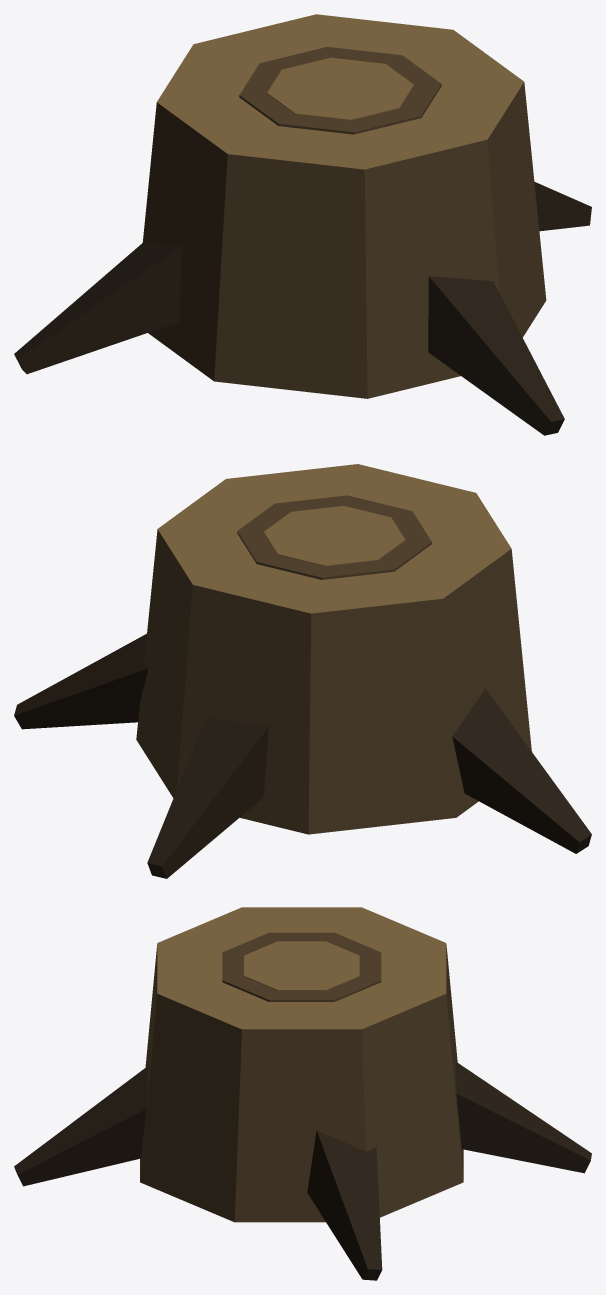
File: hushwood_stump.glb
The picture shows the model from 3 angles, top to bottom: view 1: azimuth 30°, elevation 25°; view 2: azimuth 150°, elevation 25°; view 3: azimuth 270°, elevation 25°; orthographic projection. The views are drawn at different scales.
Parts seen in each view (by area): view 1: hushwood_stump; view 2: hushwood_stump; view 3: hushwood_stump.
Part boxes in pixels (box(x1,y1,x2,y2)): hushwood_stump: box(14, 14, 591, 435); hushwood_stump: box(14, 464, 591, 878); hushwood_stump: box(14, 907, 591, 1280).
Size of the model in its own units: 1.53 by 0.5916 by 1.55.
